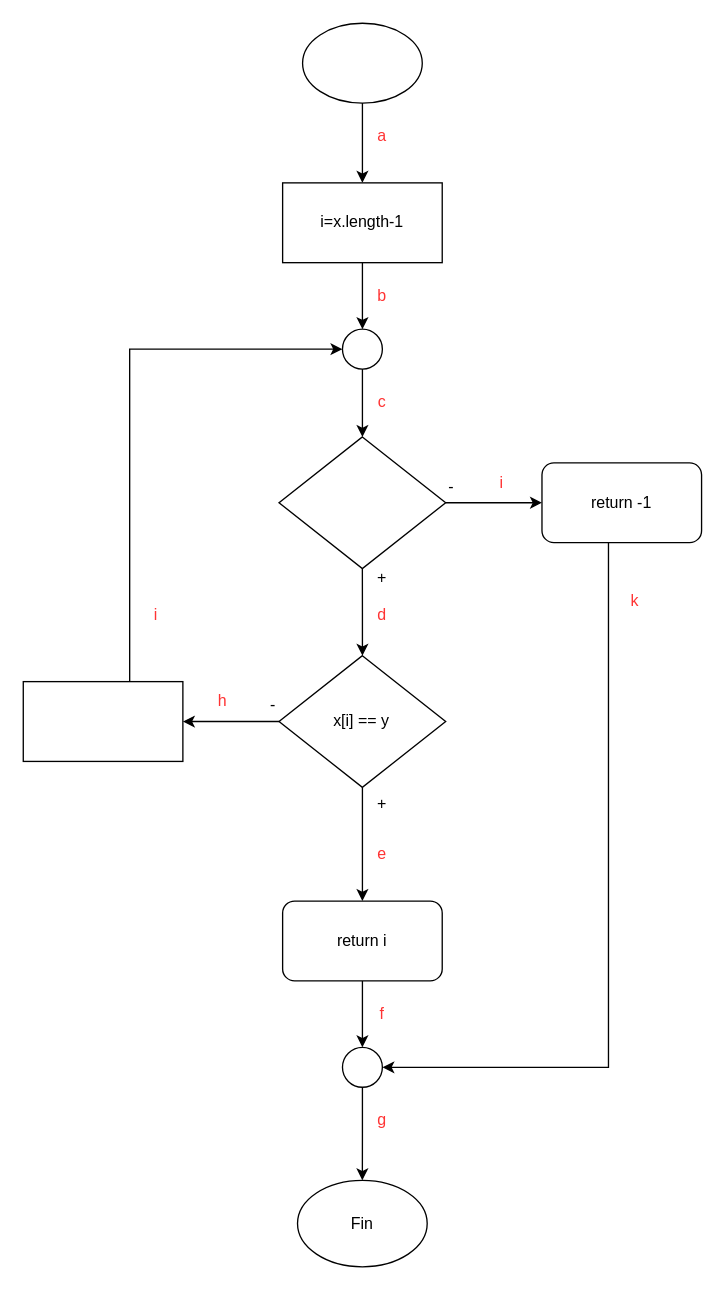
The diagram is 725 pixels wide and 1290 high, and some of its shapes have lost their labels. Here are the shapes that lost their labels. From the top down, the box of each, then its label:
(301, 22, 422, 103): Inicio
(278, 436, 446, 569): i > 0
(22, 680, 183, 761): i=i-1
